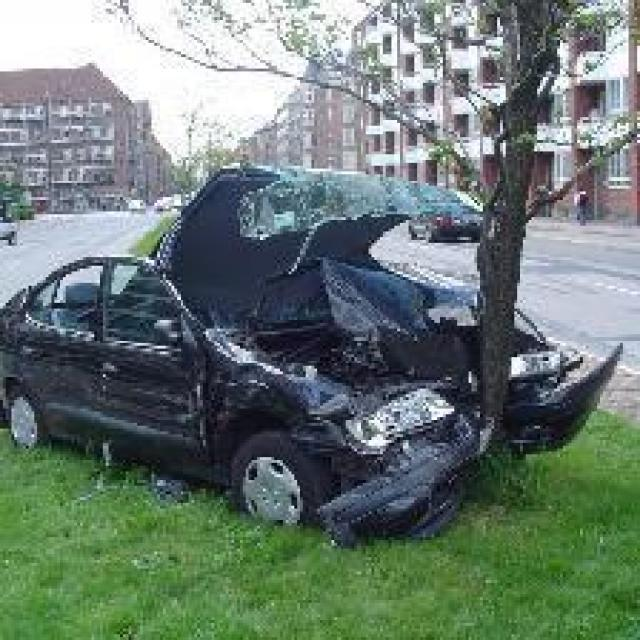damaged: (162, 162, 628, 558)
